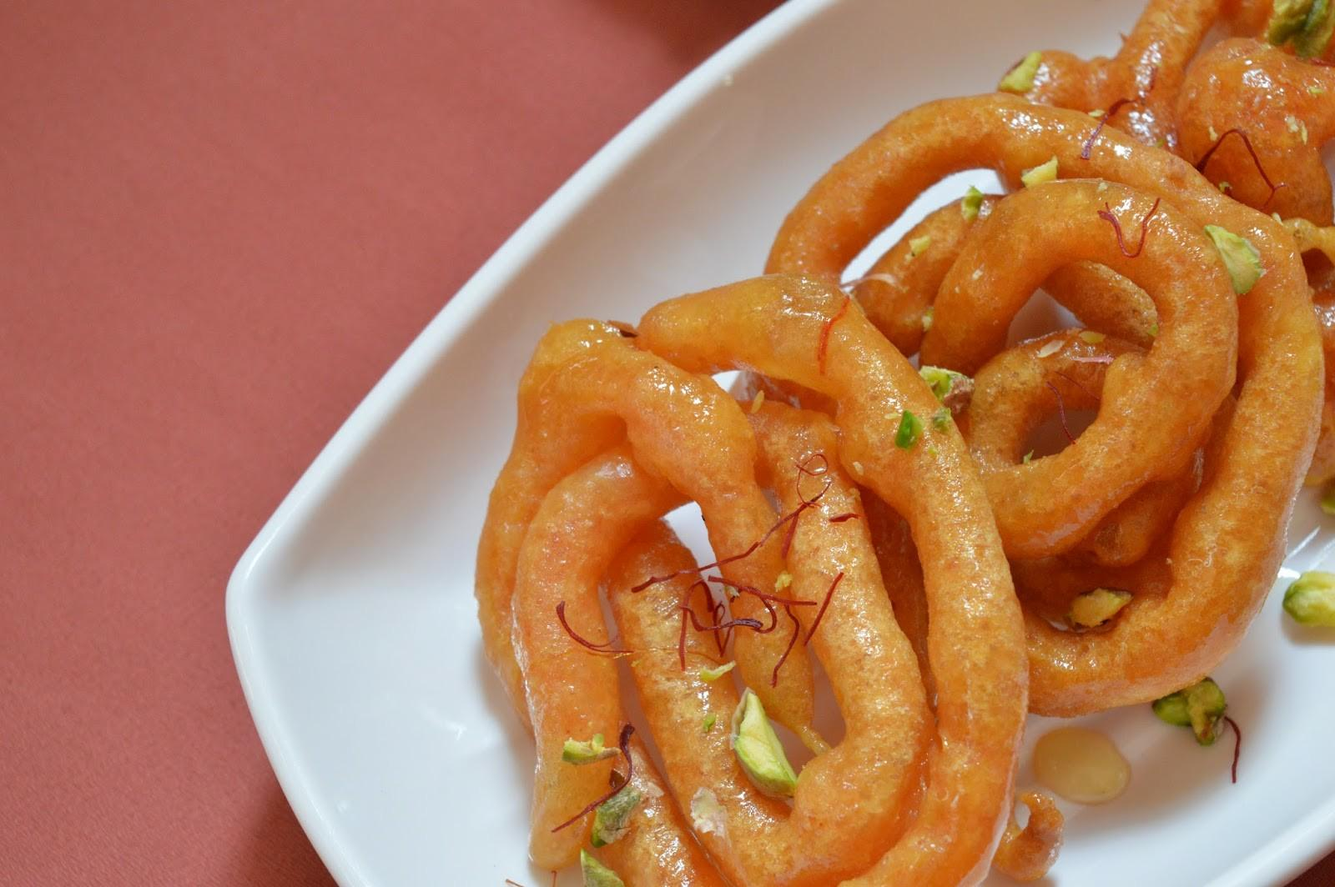Jalebi: (476, 2, 1335, 887)
